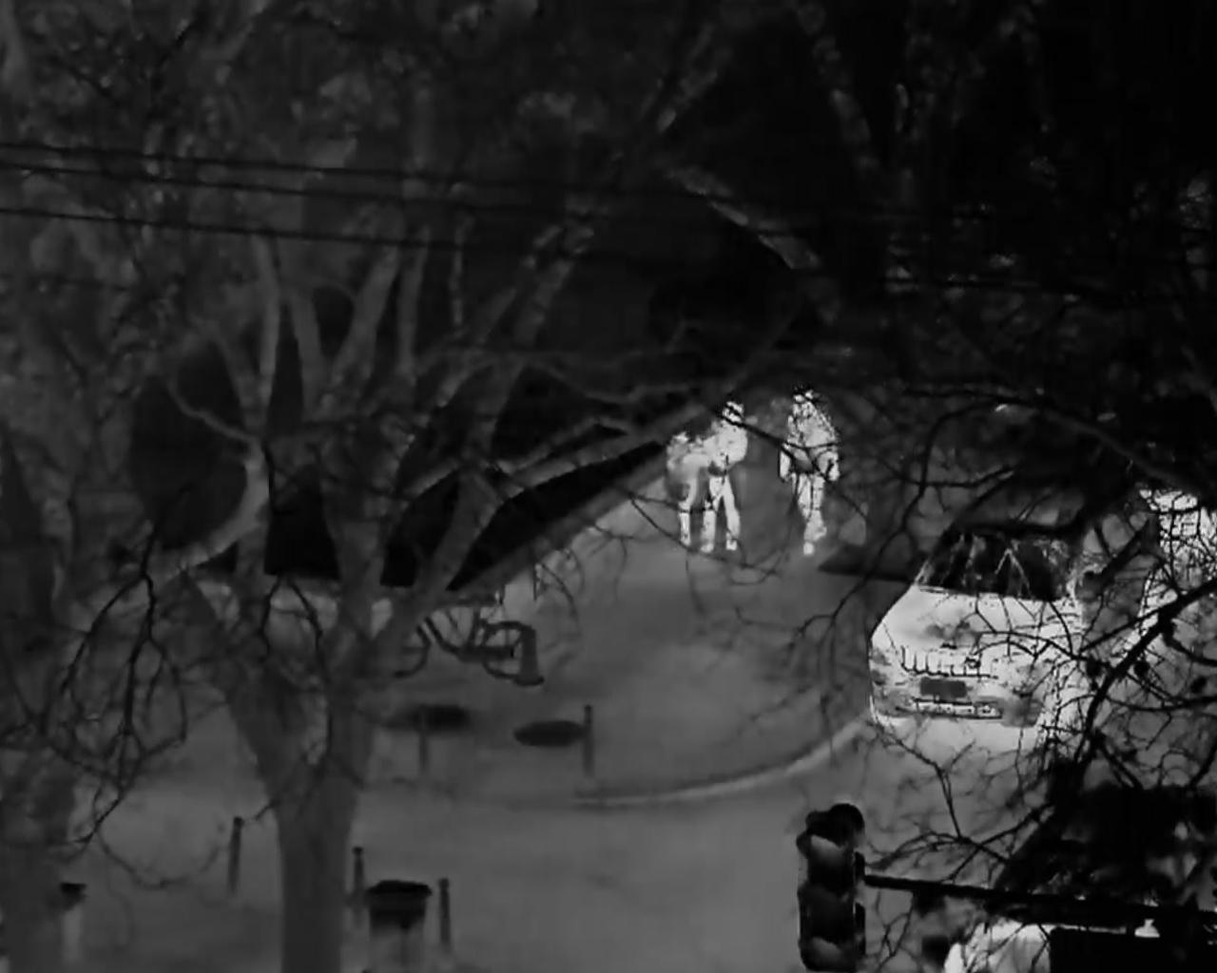person: (784, 395, 840, 556), (698, 429, 742, 552), (666, 429, 700, 547)
